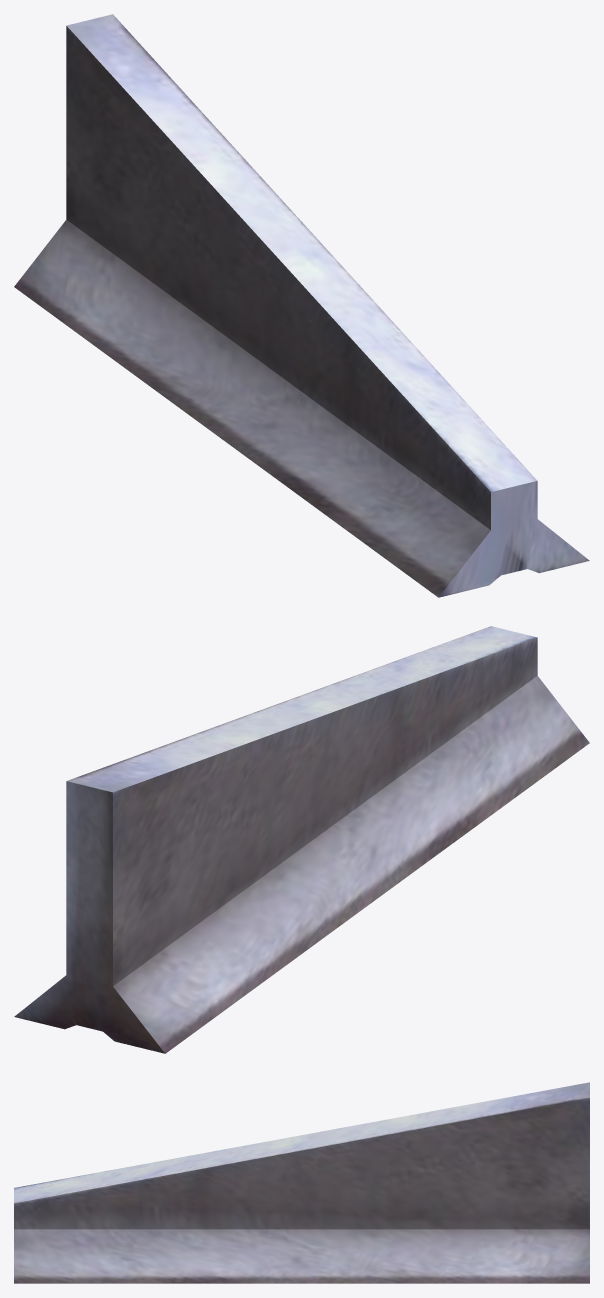
The model's file is obstacle-half.glb.
3 views of the same model, one above another, from view 1: azimuth 30°, elevation 25°; view 2: azimuth 150°, elevation 25°; view 3: azimuth 270°, elevation 25° (orthographic). The views are drawn at different scales.
Visible parts, largest first — view 1: Cube.001; view 2: Cube.001; view 3: Cube.001.
Part boxes in pixels (left/top/right/bottom): Cube.001: left=14, top=14, right=589, bottom=597; Cube.001: left=14, top=626, right=589, bottom=1053; Cube.001: left=14, top=1082, right=589, bottom=1283.
Size of the model in its own units: 1.31 by 2.06 by 6.37.
1 material, 1 textured.
